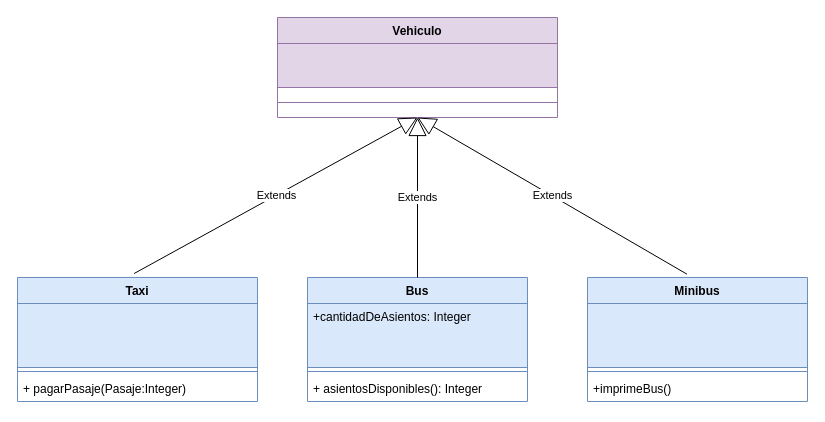
Image size: 825x422. Some labels were removed from this diagram. Here are the shapes that lost their labels. From the top down, the centre of each, then its label:
pixel 417 65: + patente: String + color: String
pixel 137 335: + valorPasaje: Integer
pixel 697 335: +TipoViaje: String +cantidadDeAsientos: Integer
